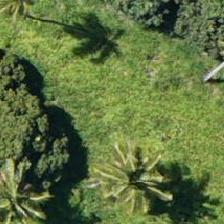coconut_tree: (88, 130, 178, 220), (174, 28, 223, 118), (0, 149, 58, 223), (0, 0, 58, 45)
